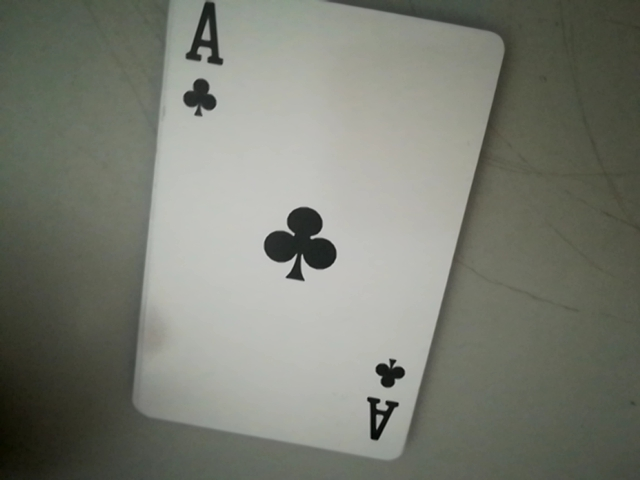mh a: (168, 6, 229, 123), (362, 353, 416, 452)
